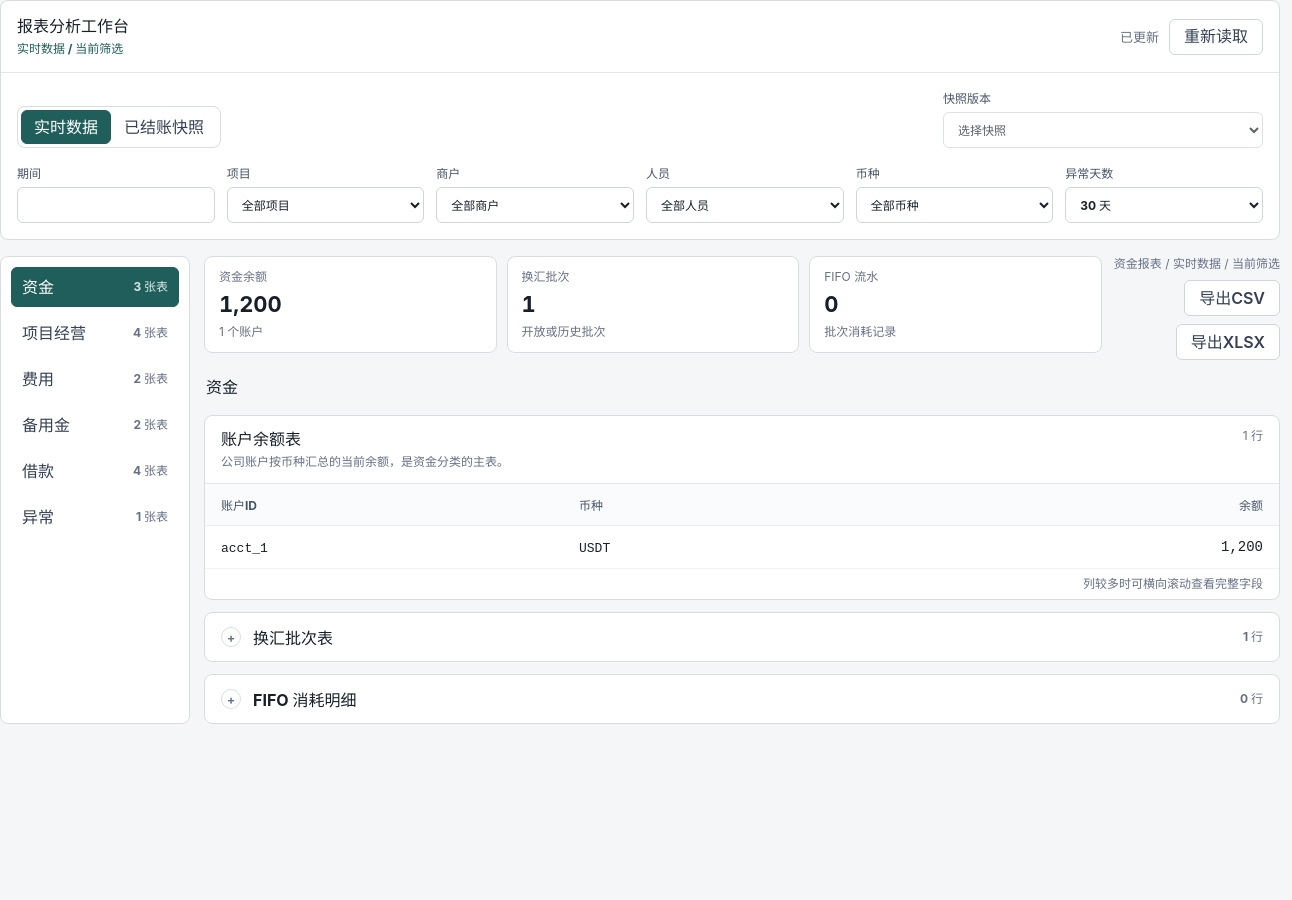
Test case: ReportsPage › switches report groups from the category navigation
The width and height of the screenshot is (1292, 900).
Expected: the message with class "status-slot" reads "已更新", [1120,28,1159,44]
Click the tab "项目经营 4 张表" at (95, 333), box [11,313,179,353]
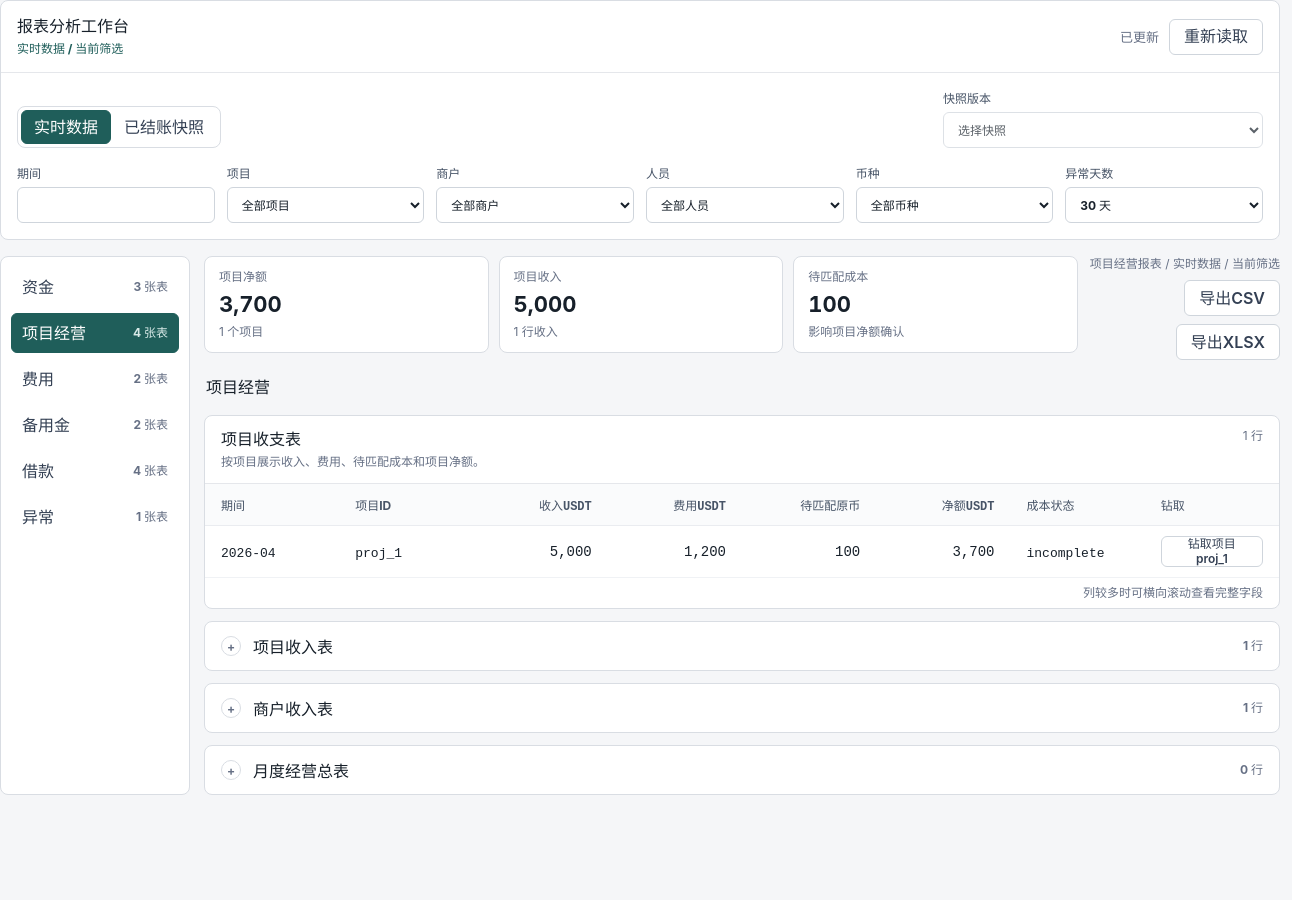
Now the panel with class "report-detail-region" shows "项目收支表", box [221,429,301,449]
Now the panel with class "report-detail-region" shows "商户收入表", box [253,699,333,719]
Now the heading with class "report-detail-region" no longer shows "账户余额表"
